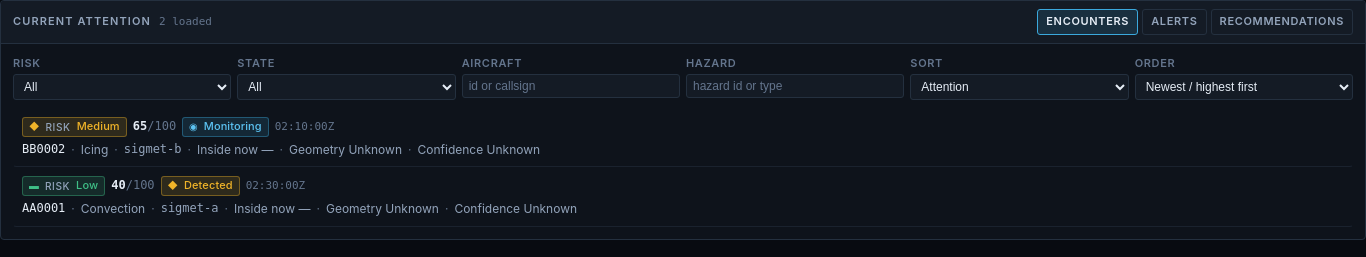
Test: OperationalWorklist › keeps current encounters visible when current alerts fail
Expected: the text "AA0001" is shown, x1=22 y1=200 x2=65 y2=218
Click the tab "Alerts": (1174, 22) x1=1142 y1=9 x2=1207 y2=35
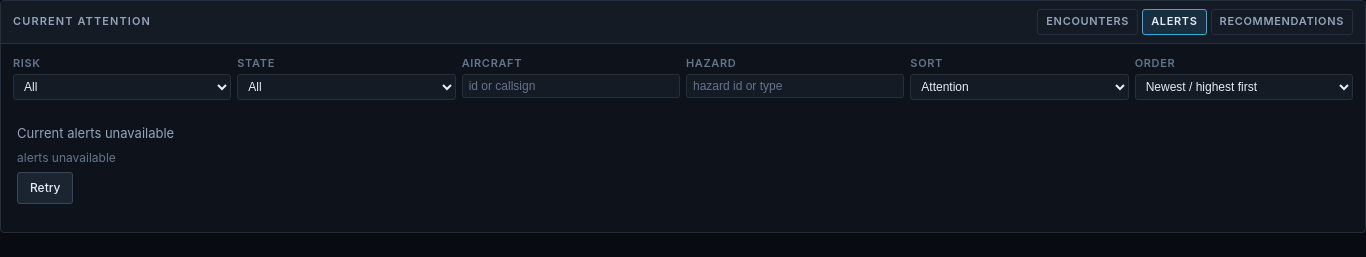
Result: the text "Current alerts unavailable" is shown at x1=17 y1=124 x2=174 y2=143
